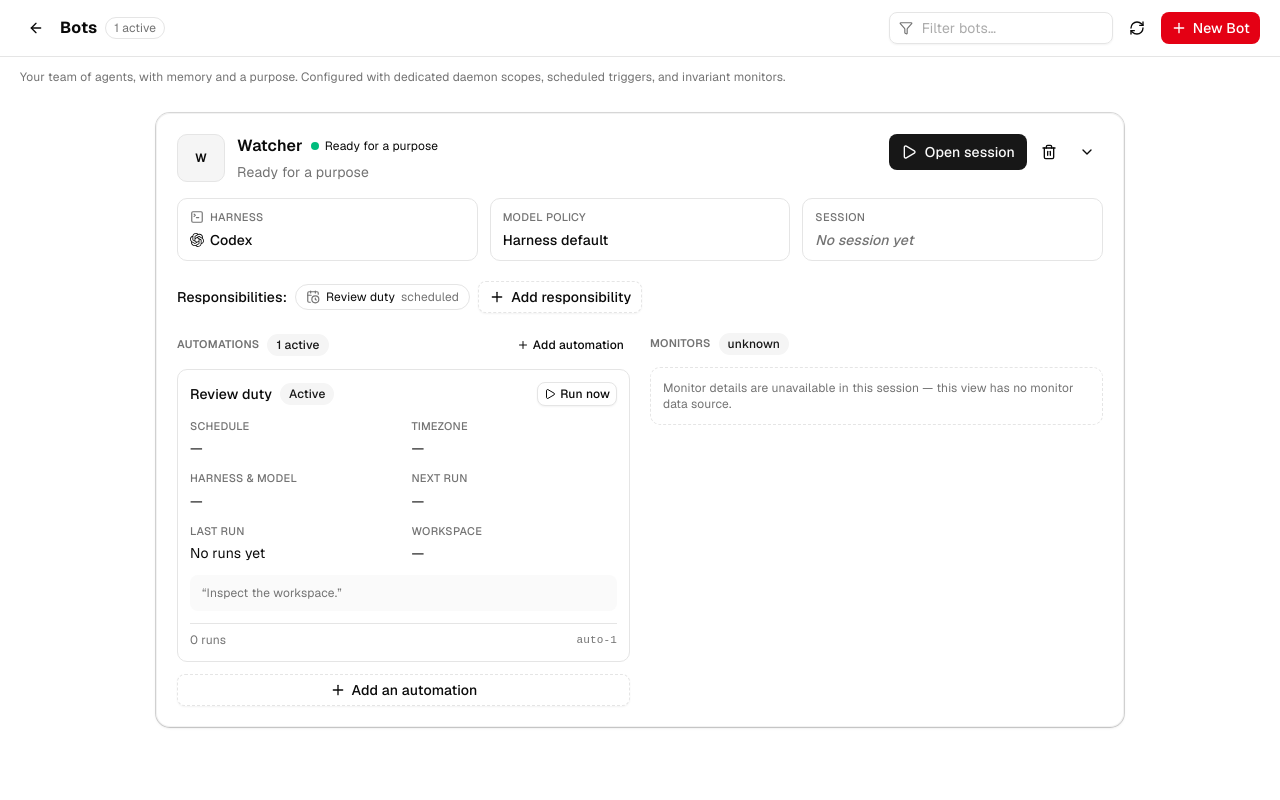
Test: use-bots-page-controller: expand/collapse toggles › collapses a default-expanded card on the first click, then restores it
expect the button with test id "open-session-bot-1" is shown: met, box [889,134,1027,170]
// First click collapses the default-expanded card.
Click the button with test id "bot-expand-bot-1" at (1087, 152), box [1071,136,1103,168]
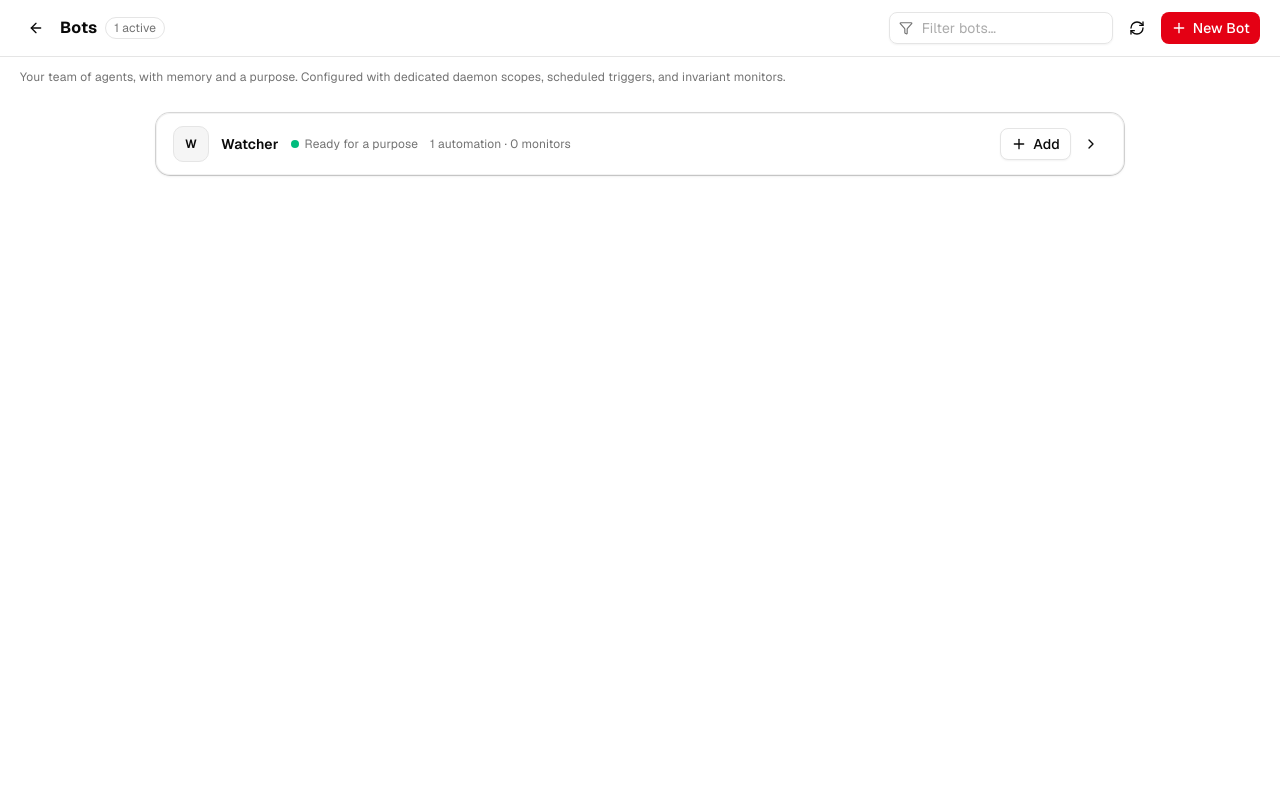
expect the button with test id "open-session-bot-1" is gone: met
expect the text "1 automation · 0 monitors" is shown: met, box [430,136,571,152]
// Second click restores the full card.
Click the button with test id "bot-expand-bot-1" at (1091, 144), box [1075,128,1107,160]
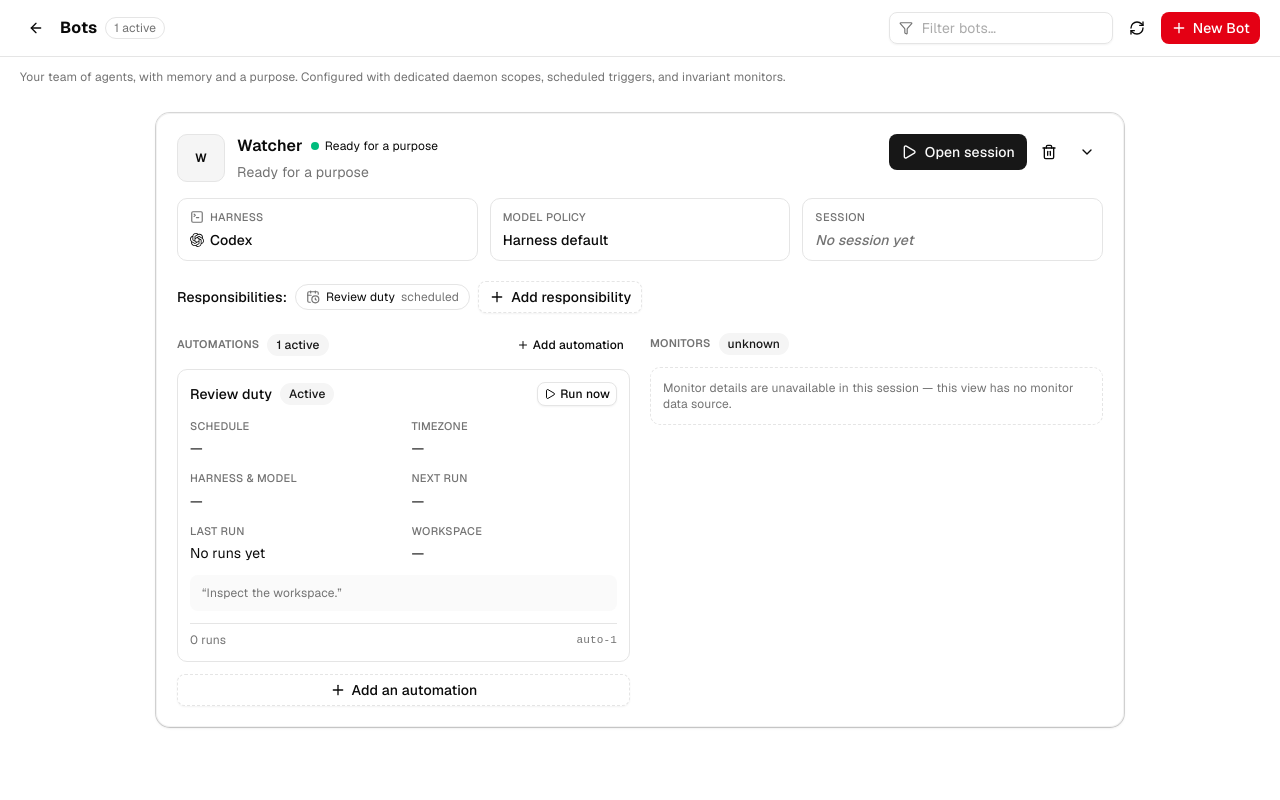
expect the button with test id "open-session-bot-1" is shown: met, box [889,134,1027,170]
